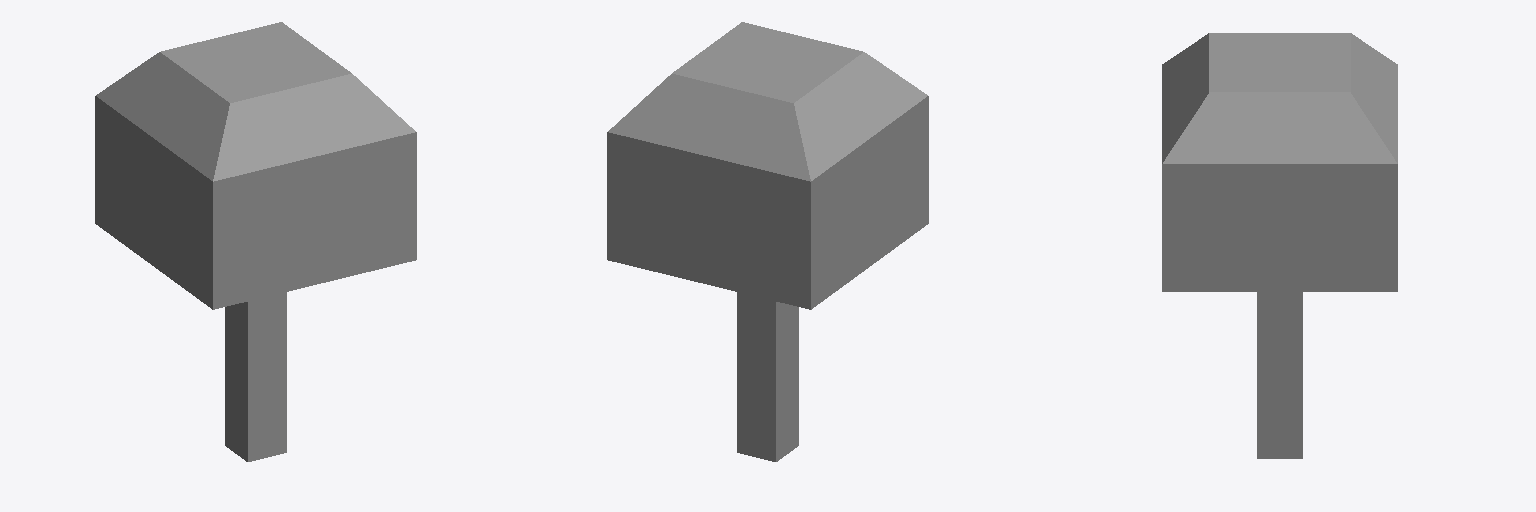
The model's file is tree.obj.
3 renders of one model, left to right at view 1: azimuth 30°, elevation 25°; view 2: azimuth 150°, elevation 25°; view 3: azimuth 270°, elevation 25°, orthographic.
Visible parts, largest first — view 1: Cube; view 2: Cube; view 3: Cube.
Part boxes in pixels (bbox=[...]): Cube: bbox=[95, 22, 416, 461]; Cube: bbox=[607, 22, 928, 461]; Cube: bbox=[1162, 33, 1397, 458].
Size of the model in its own units: 3.11 by 5.65 by 3.11.